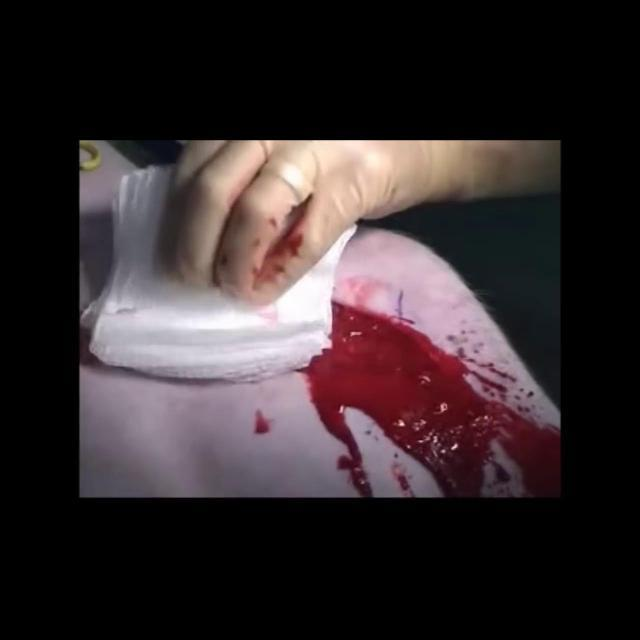blood: (302, 299, 560, 498), (236, 194, 327, 294), (254, 409, 270, 434)
